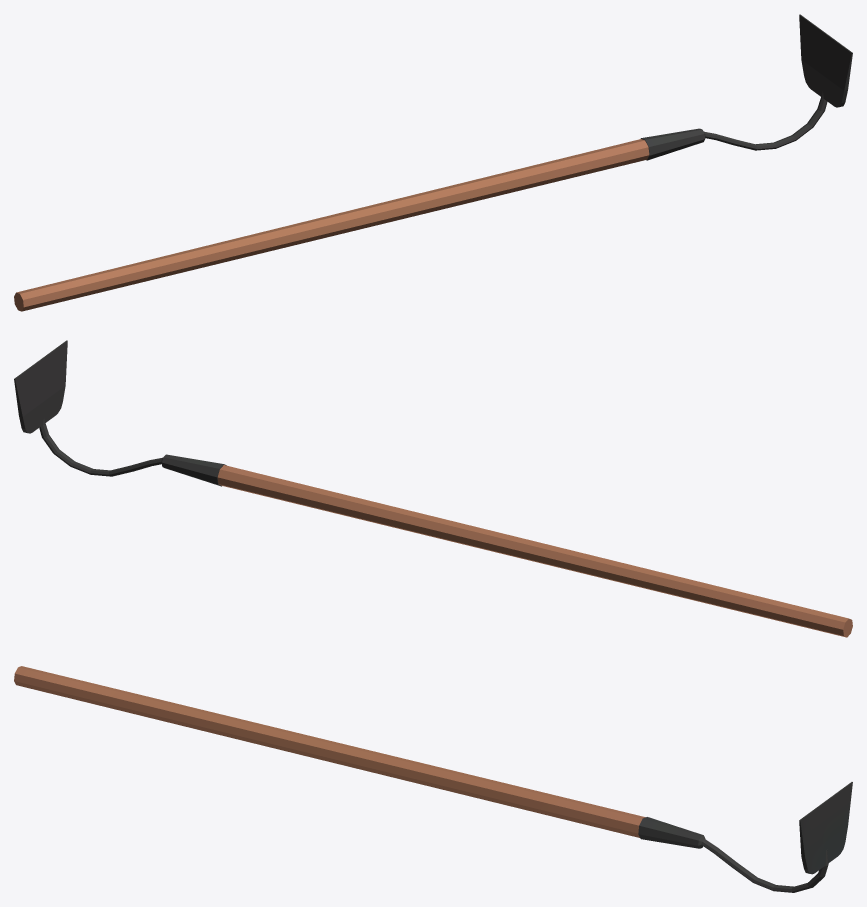
File: hoe.glb
3 views of the same model, one above another, from view 1: azimuth 30°, elevation 25°; view 2: azimuth 150°, elevation 25°; view 3: azimuth 330°, elevation 25° (orthographic).
Parts seen in each view (by area): view 1: Hoe; view 2: Hoe; view 3: Hoe.
Part boxes in pixels (left/top/right/bottom): Hoe: left=14, top=14, right=852, bottom=311; Hoe: left=14, top=340, right=852, bottom=637; Hoe: left=14, top=666, right=852, bottom=892.
Size of the model in its own units: 1.47 by 0.1774 by 0.1657.
1 material, 1 textured.
